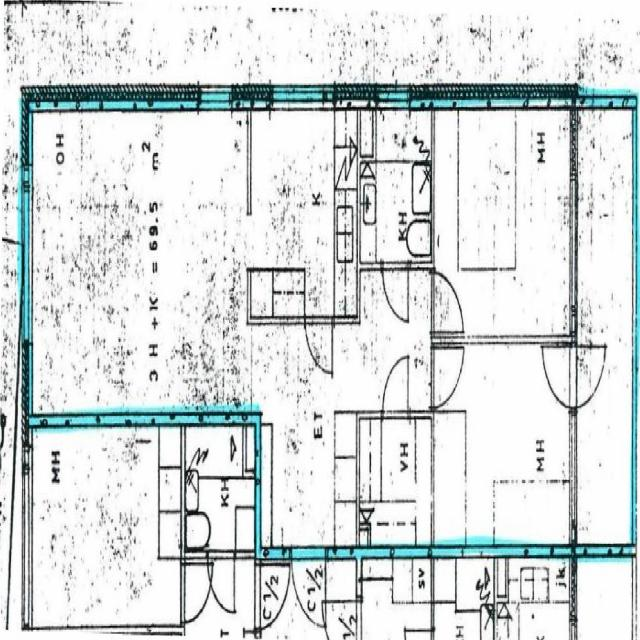door: (292, 547, 326, 628), (569, 346, 607, 407), (539, 346, 577, 407), (431, 348, 464, 408), (431, 272, 464, 332), (305, 316, 332, 379), (382, 263, 408, 322), (383, 360, 408, 419)
